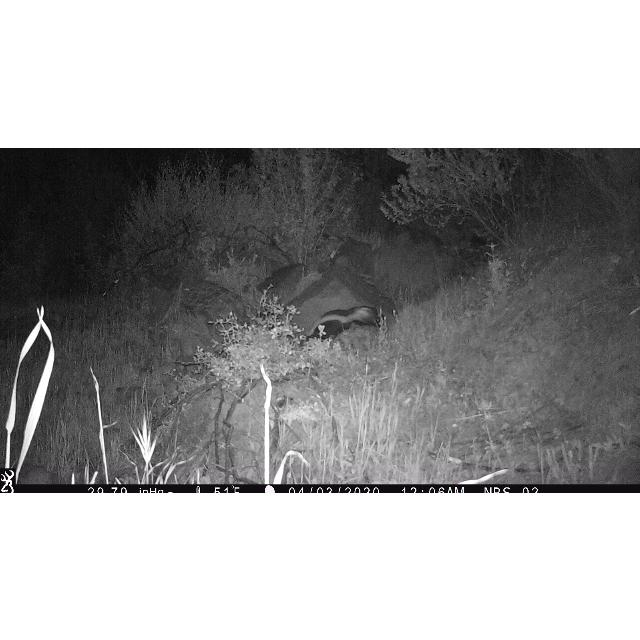animals: (305, 304, 381, 341)
